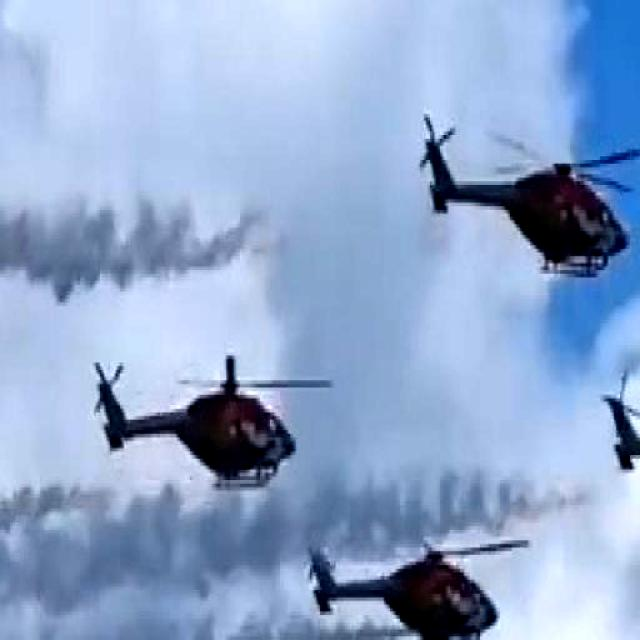drone: (410, 92, 640, 286), (88, 332, 338, 501), (304, 519, 538, 640)
